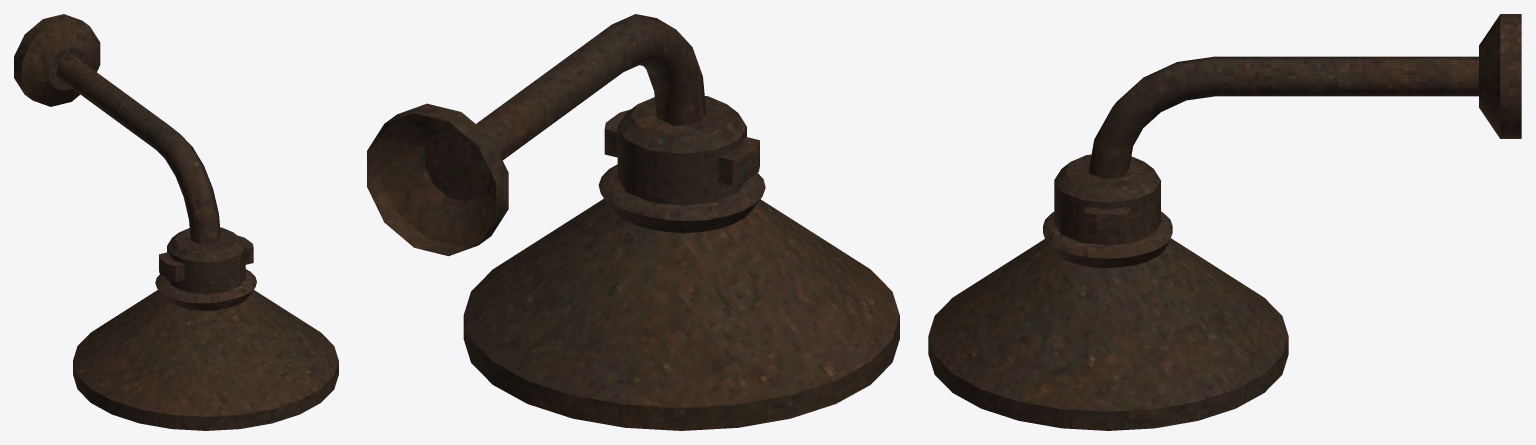
Rendered from lamp_mx_4_off.glb.
3 renders of one model, left to right at view 1: azimuth 30°, elevation 25°; view 2: azimuth 150°, elevation 25°; view 3: azimuth 270°, elevation 25°, orthographic. The views are drawn at different scales.
Parts seen in each view (by area): view 1: lamp_mx_4_off; view 2: lamp_mx_4_off; view 3: lamp_mx_4_off.
Boxes of the visible parts, x1,y1,x2,y2 form: lamp_mx_4_off: (14,14,338,430); lamp_mx_4_off: (367,14,899,430); lamp_mx_4_off: (928,14,1521,430).
Bounding box in the file's own units: 0.51 × 0.5559 × 0.84.
2 materials, 2 textured.
